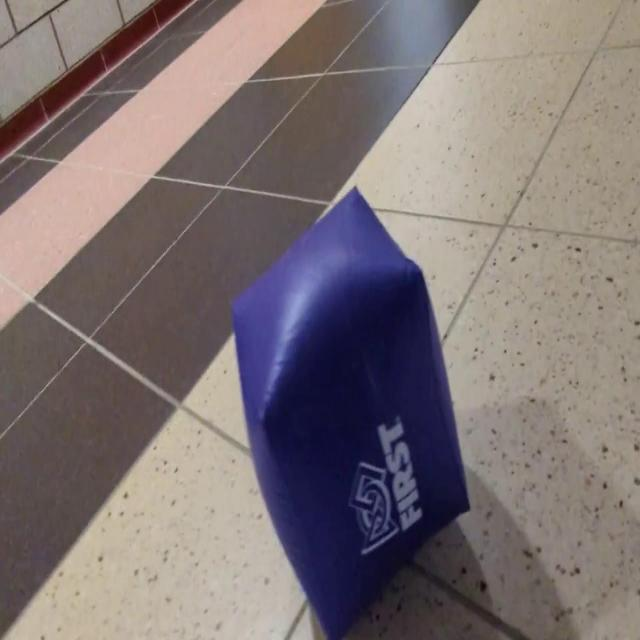frc_cube: (230, 182, 472, 640)
